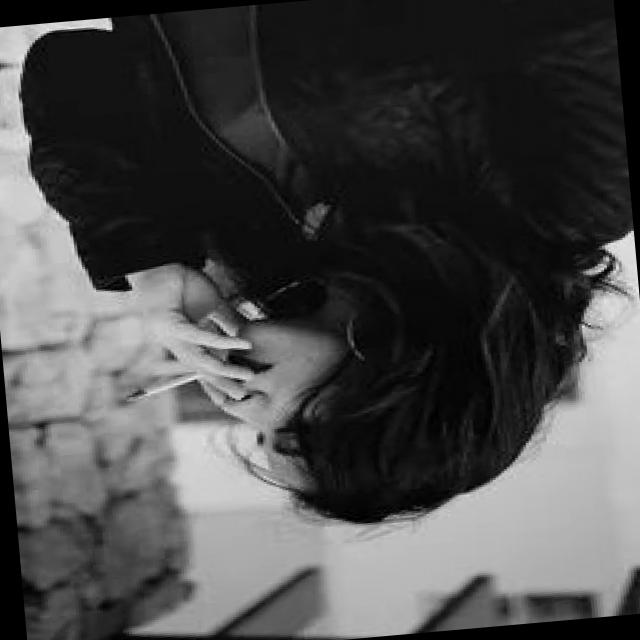smoke: (115, 359, 226, 408)
